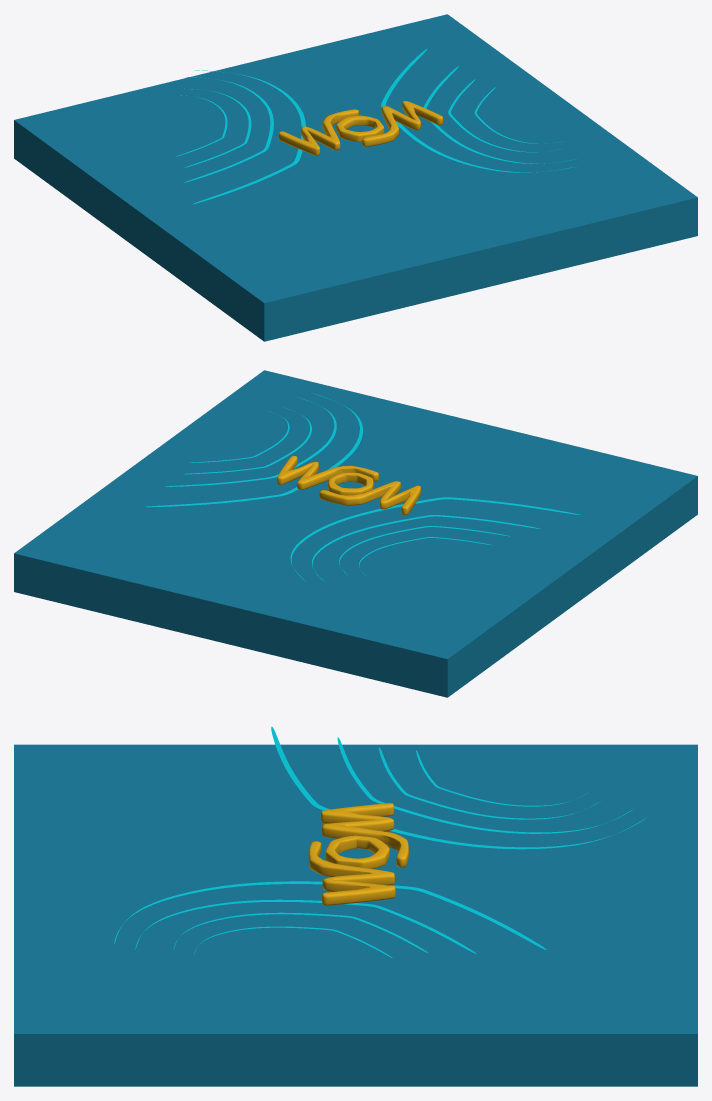
File: Wom_3d.fbx
The picture shows the model from 3 angles, top to bottom: view 1: azimuth 30°, elevation 25°; view 2: azimuth 150°, elevation 25°; view 3: azimuth 270°, elevation 25°; orthographic projection. The views are drawn at different scales.
Parts seen in each view (by area): view 1: Plane.004, Plane.003, Plane.001, Plane.002, Plane.005, Plane.012; view 2: Plane.004, Plane.001, Plane.003, Plane.002, Plane.012, Plane.005, Plane.011; view 3: Plane.004, Plane.003, Plane.001, Plane.002, Plane.005, Plane.012, Plane.011, Plane.006, Plane.007, Plane.010.
Part boxes in pixels (x1,y1,x2,y2): Plane.004: (14, 14, 697, 341); Plane.003: (362, 101, 442, 146); Plane.001: (278, 109, 358, 155); Plane.002: (336, 115, 384, 141); Plane.005: (381, 48, 576, 172); Plane.012: (193, 70, 305, 204); Plane.004: (14, 370, 697, 697); Plane.001: (319, 481, 420, 515); Plane.003: (277, 455, 378, 489); Plane.002: (328, 472, 373, 495); Plane.012: (290, 497, 580, 581); Plane.005: (145, 393, 362, 507); Plane.011: (312, 515, 540, 581); Plane.004: (14, 744, 697, 1086); Plane.003: (308, 841, 395, 905); Plane.001: (320, 803, 408, 867); Plane.002: (325, 835, 389, 868); Plane.005: (114, 881, 546, 949); Plane.012: (271, 726, 646, 849); Plane.011: (337, 737, 631, 833); Plane.006: (135, 899, 476, 953); Plane.007: (173, 912, 428, 953); Plane.010: (379, 747, 600, 819).
Bounding box in the file's own units: 324 × 50.68 × 324.
